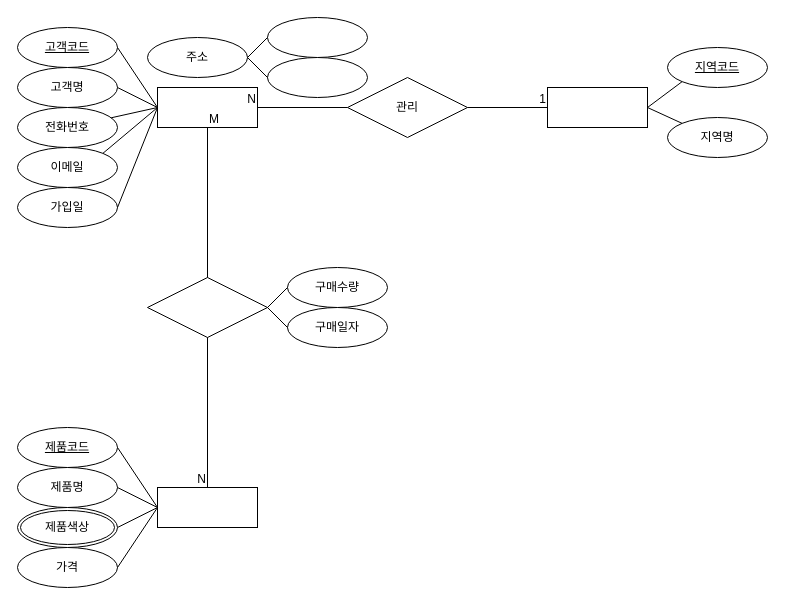
The diagram is 785 pixels wide and 605 high, and some of its shapes have lost their labels. Here are the shapes that lost their labels. From the top down, the box of each, then its label:
(266, 16, 368, 58): 기본주소
(266, 56, 368, 98): 상세주소
(156, 86, 258, 128): 고객
(546, 86, 648, 128): 지역
(146, 276, 268, 338): 구매
(156, 486, 258, 528): 제품
